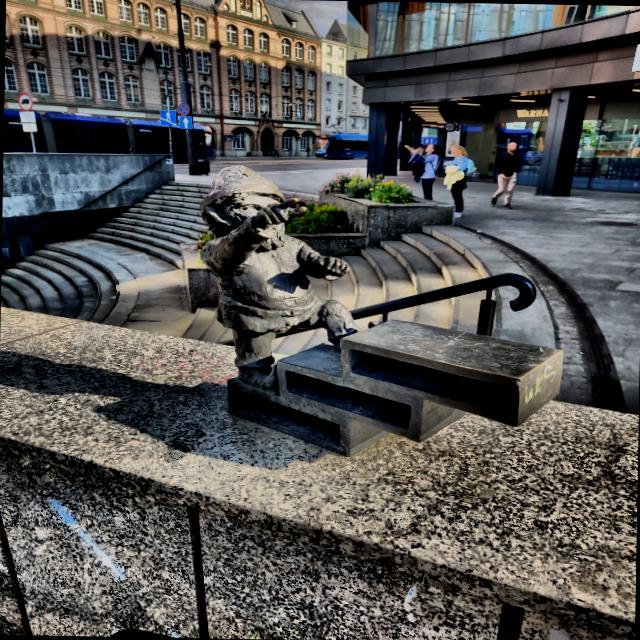Elementek: (201, 166, 561, 454)
